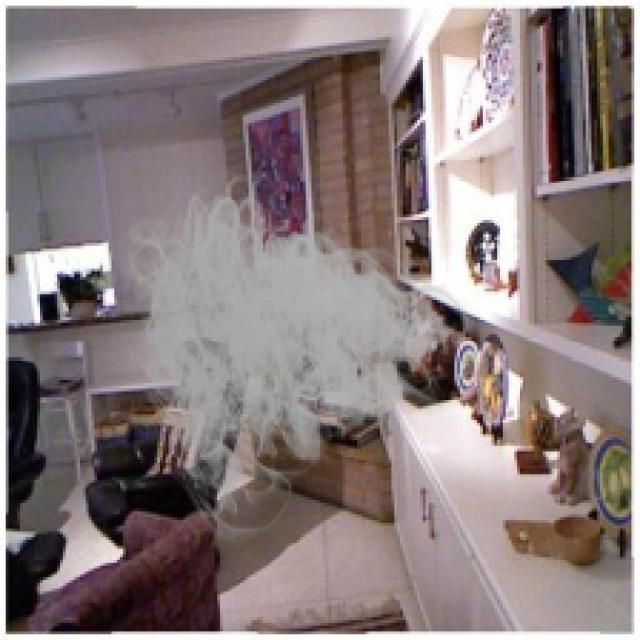Smoke: (103, 160, 483, 549)
